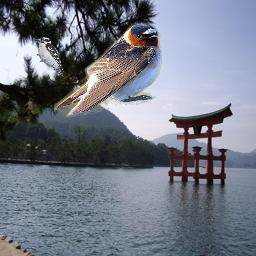Swallow: (54, 23, 162, 119)
Woodpecker: (34, 37, 64, 77)
